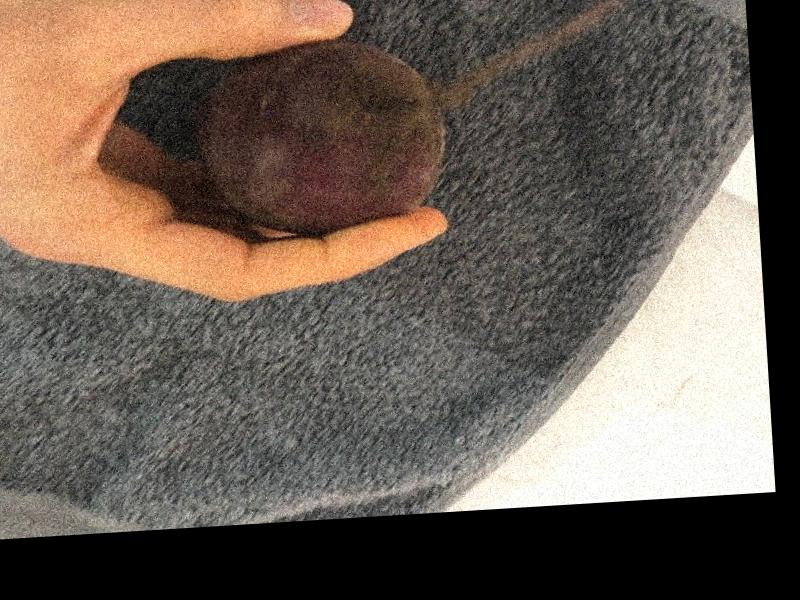Beet: (191, 34, 447, 240)
